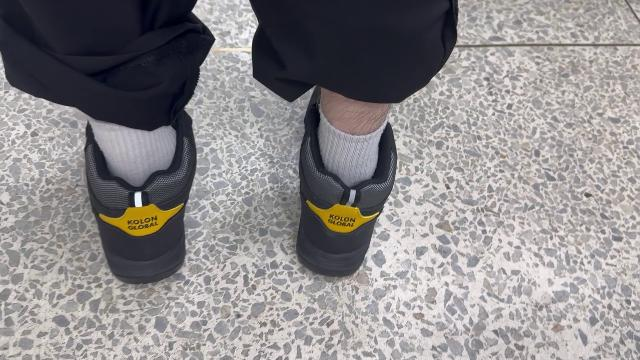shoe_worn: (84, 116, 198, 288), (302, 82, 400, 275)
